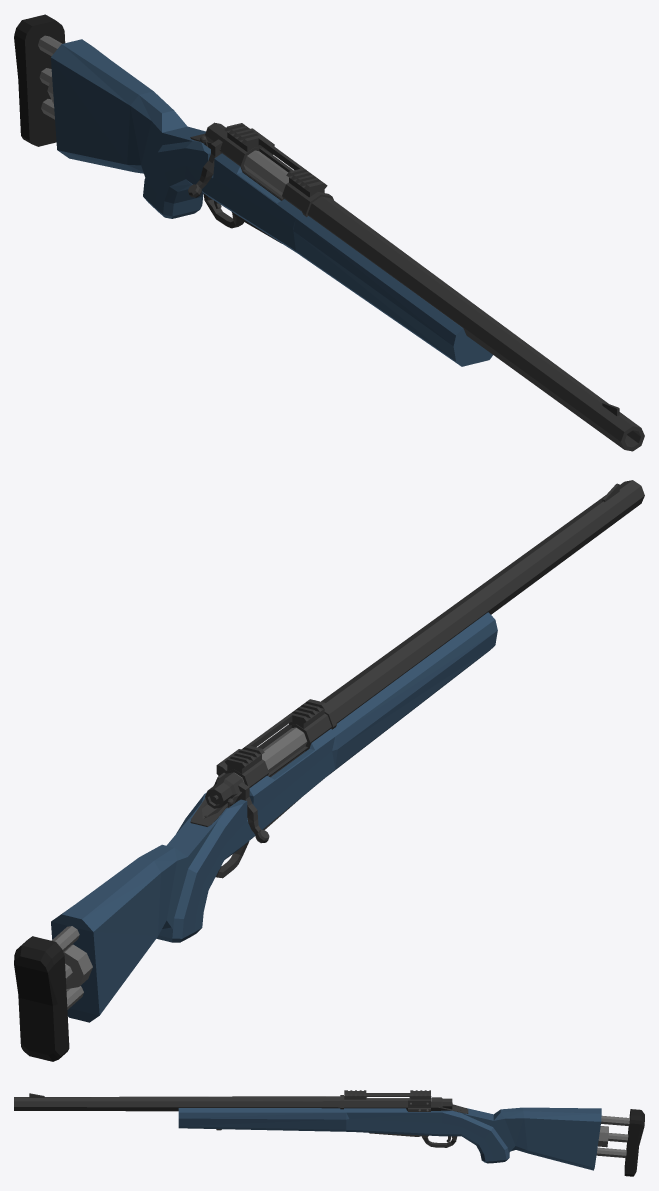
3 renders of one model, top to bottom at view 1: azimuth 30°, elevation 25°; view 2: azimuth 150°, elevation 25°; view 3: azimuth 270°, elevation 25°, orthographic. The views are drawn at different scales.
Visible parts, largest first — view 1: Object_2, Object_6, Object_3, Object_7; view 2: Object_2, Object_6, Object_3, Object_7; view 3: Object_2, Object_6, Object_7, Object_3.
Boxes of the visible parts, left/top/right/bottom form: Object_2: left=51, top=39, right=492, bottom=366; Object_6: left=188, top=122, right=644, bottom=451; Object_3: left=14, top=14, right=65, bottom=146; Object_7: left=38, top=35, right=288, bottom=195; Object_2: left=51, top=612, right=497, bottom=1022; Object_6: left=190, top=480, right=644, bottom=878; Object_3: left=14, top=936, right=69, bottom=1061; Object_7: left=51, top=727, right=307, bottom=1009; Object_2: left=178, top=1107, right=601, bottom=1170; Object_6: left=14, top=1090, right=468, bottom=1147; Object_7: left=367, top=1098, right=629, bottom=1157; Object_3: left=624, top=1109, right=644, bottom=1176.
Size of the model in its own units: 0.0593 by 0.1429 by 1.
Materials: 6 (6 with a texture image).
